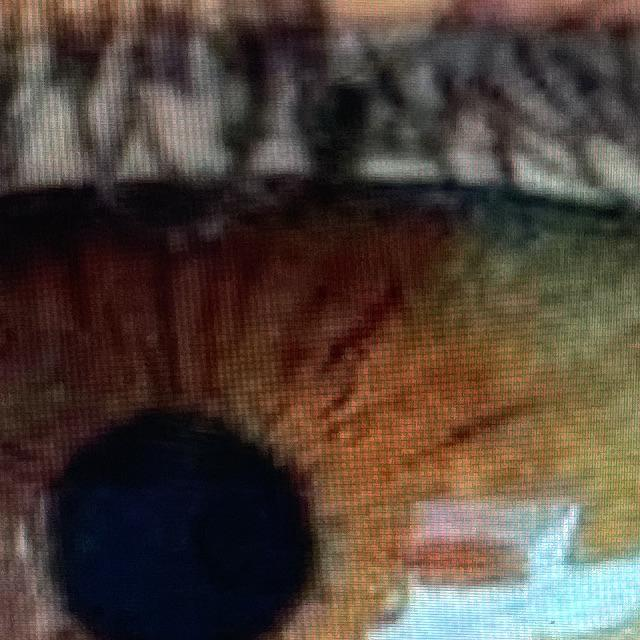eye: (0, 214, 640, 640)
iris: (0, 229, 640, 640)
